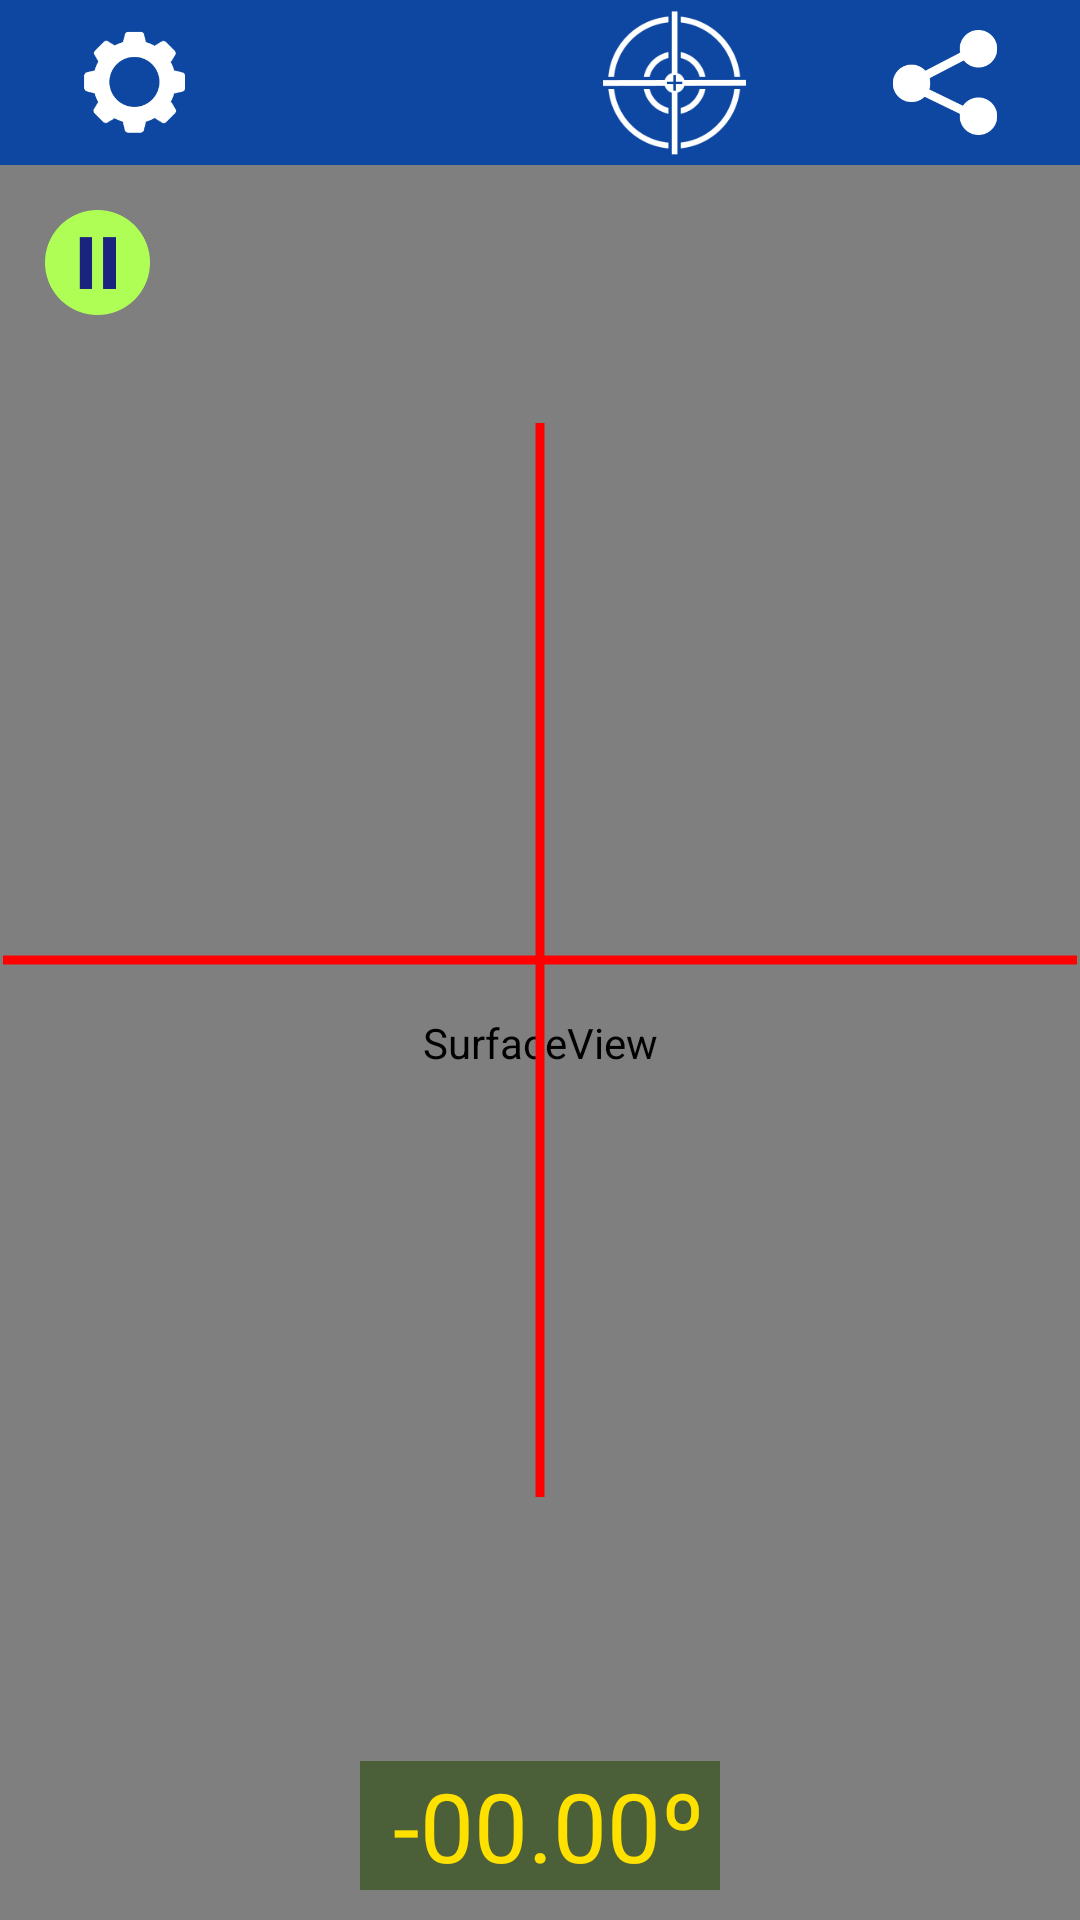

Screen size 1080px x 1920px. Icon name, then its box in pixels as (x1, y1, x2, y2):
calibrate: (603, 11, 746, 155)
pause: (45, 210, 150, 315)
Settings: (84, 32, 185, 133)
share: (893, 30, 997, 135)
